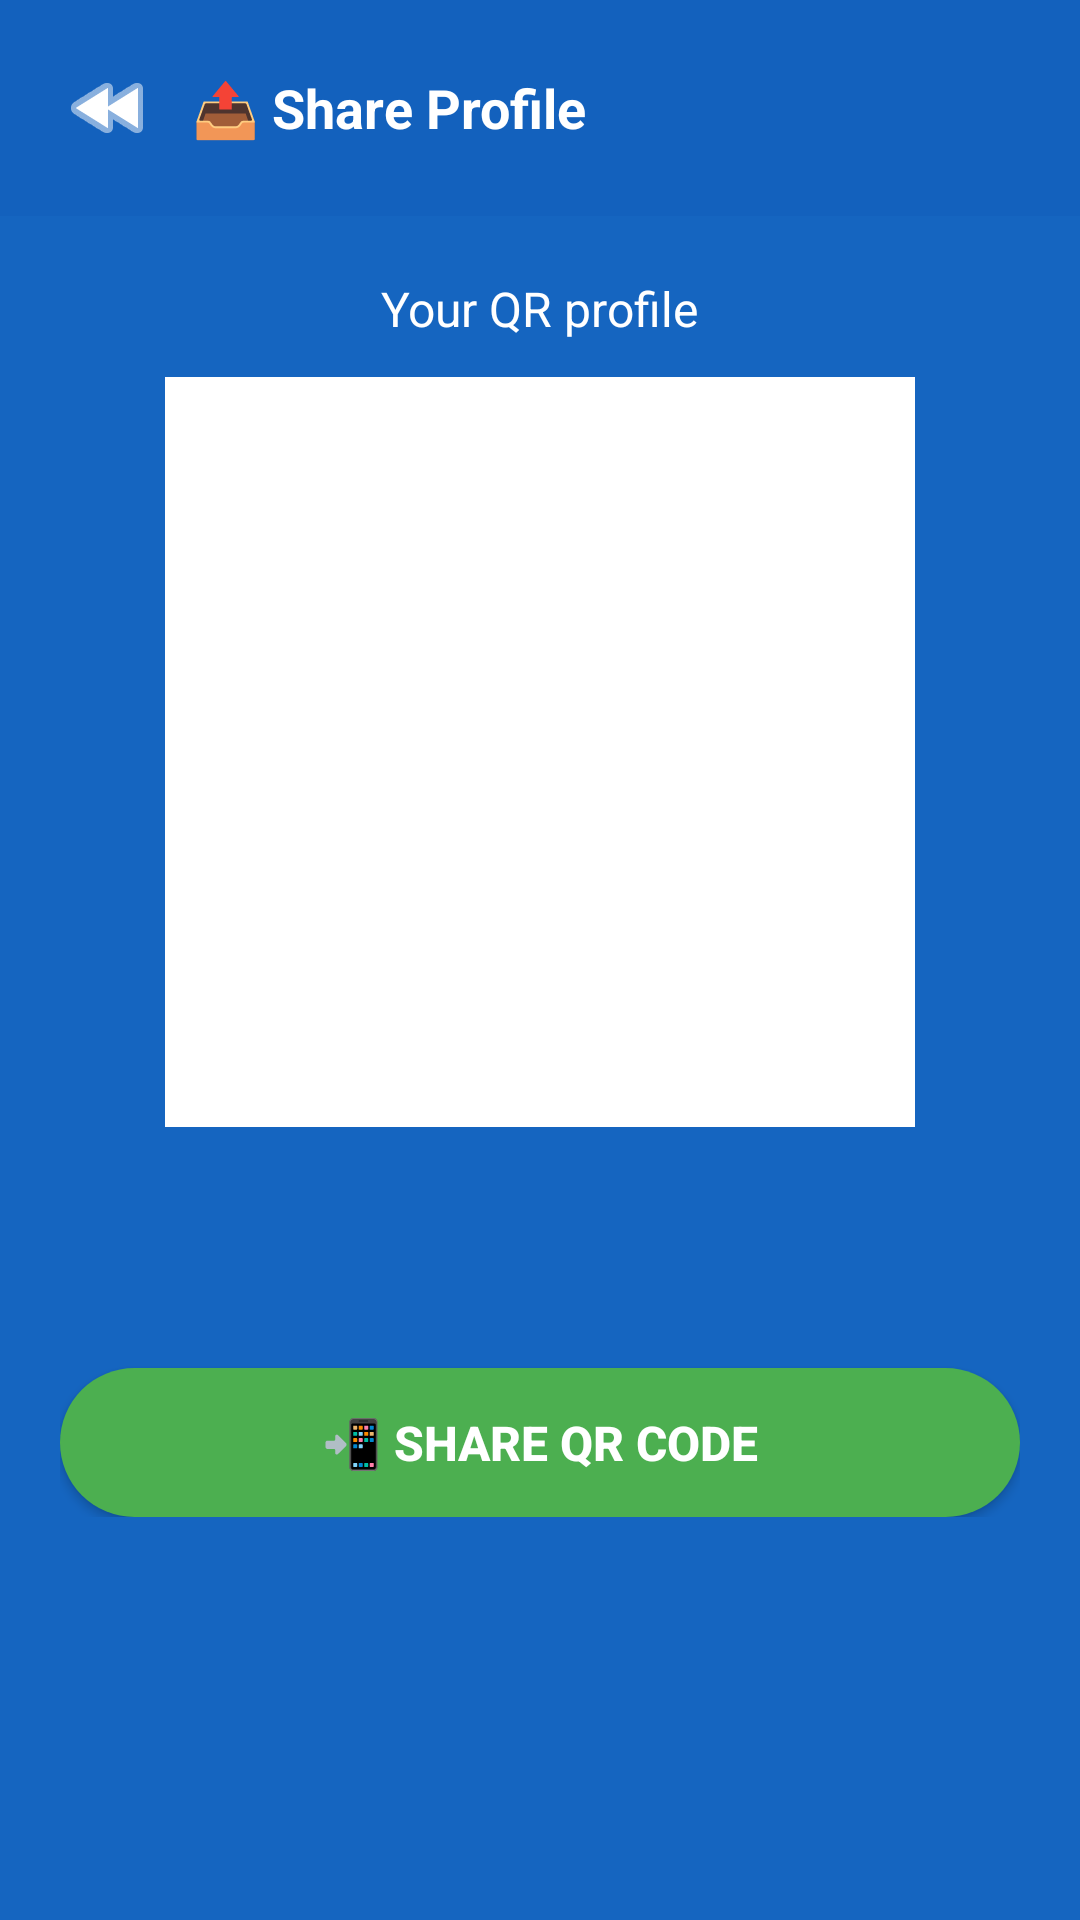

Icon click points for this 1080×1920 phone screenshot, format (x=x, y=y):
Back: (x=107, y=108)
